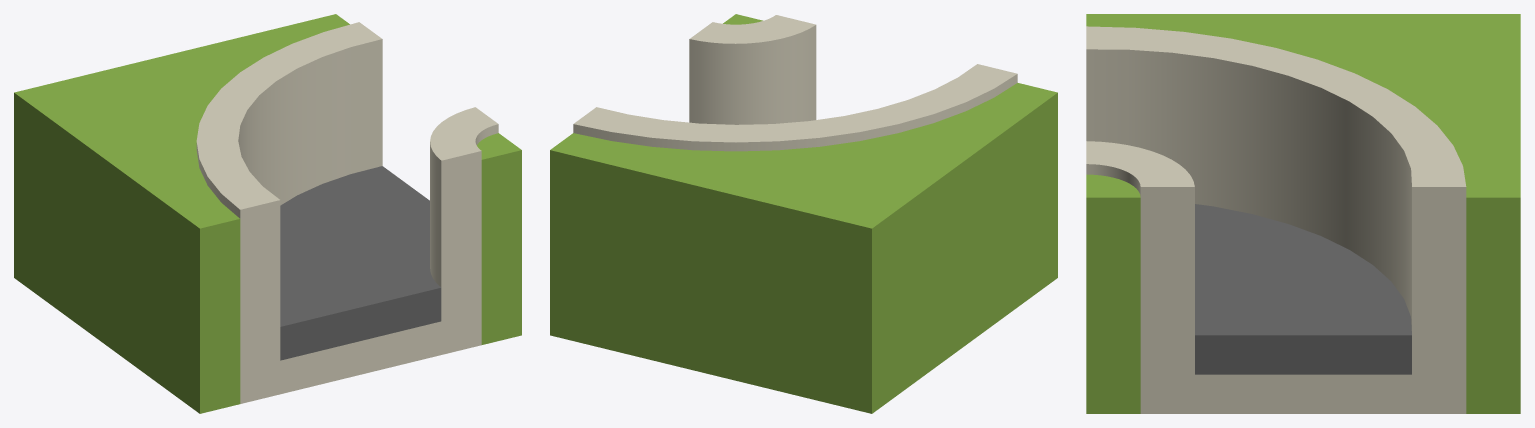
File: tile045.dae
The picture shows the model from 3 angles, left to right: view 1: azimuth 30°, elevation 25°; view 2: azimuth 150°, elevation 25°; view 3: azimuth 270°, elevation 25°; orthographic projection. The views are drawn at different scales.
Parts seen in each view (by area): view 1: tile045; view 2: tile045; view 3: tile045.
Boxes of the visible parts, bbox=[...] form: tile045: bbox=[14, 14, 521, 413]; tile045: bbox=[550, 14, 1057, 413]; tile045: bbox=[1086, 14, 1520, 413].
Bounding box in the file's own units: 1 × 0.5767 × 1.
